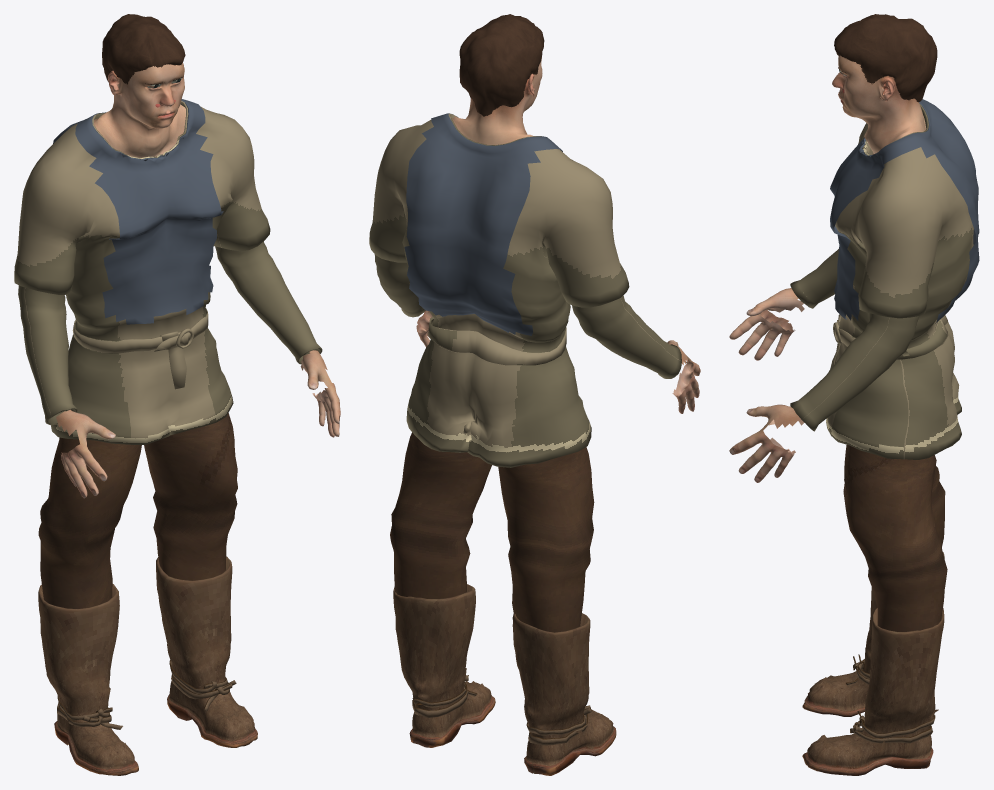
The model's file is kest-work-vest.glb.
3 views of the same model, side by side, from view 1: azimuth 30°, elevation 25°; view 2: azimuth 150°, elevation 25°; view 3: azimuth 270°, elevation 25° (orthographic).
Visible parts, largest first — view 1: kest-work-vest runtime mesh; view 2: kest-work-vest runtime mesh; view 3: kest-work-vest runtime mesh.
Boxes of the visible parts, x1,y1,x2,y2 form: kest-work-vest runtime mesh: (14, 14, 340, 775); kest-work-vest runtime mesh: (369, 14, 700, 775); kest-work-vest runtime mesh: (729, 14, 979, 775).
Bounding box in the file's own units: 0.745 × 1.85 × 0.5834.
9 materials, 7 textured.
